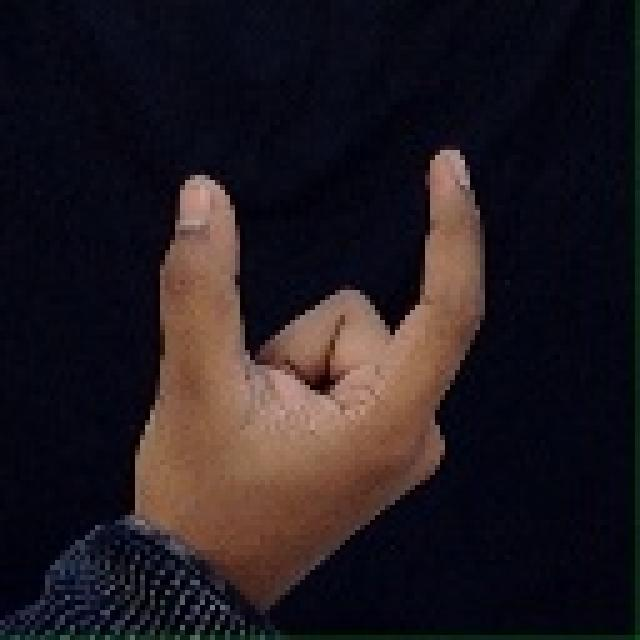U: (146, 119, 492, 528)
